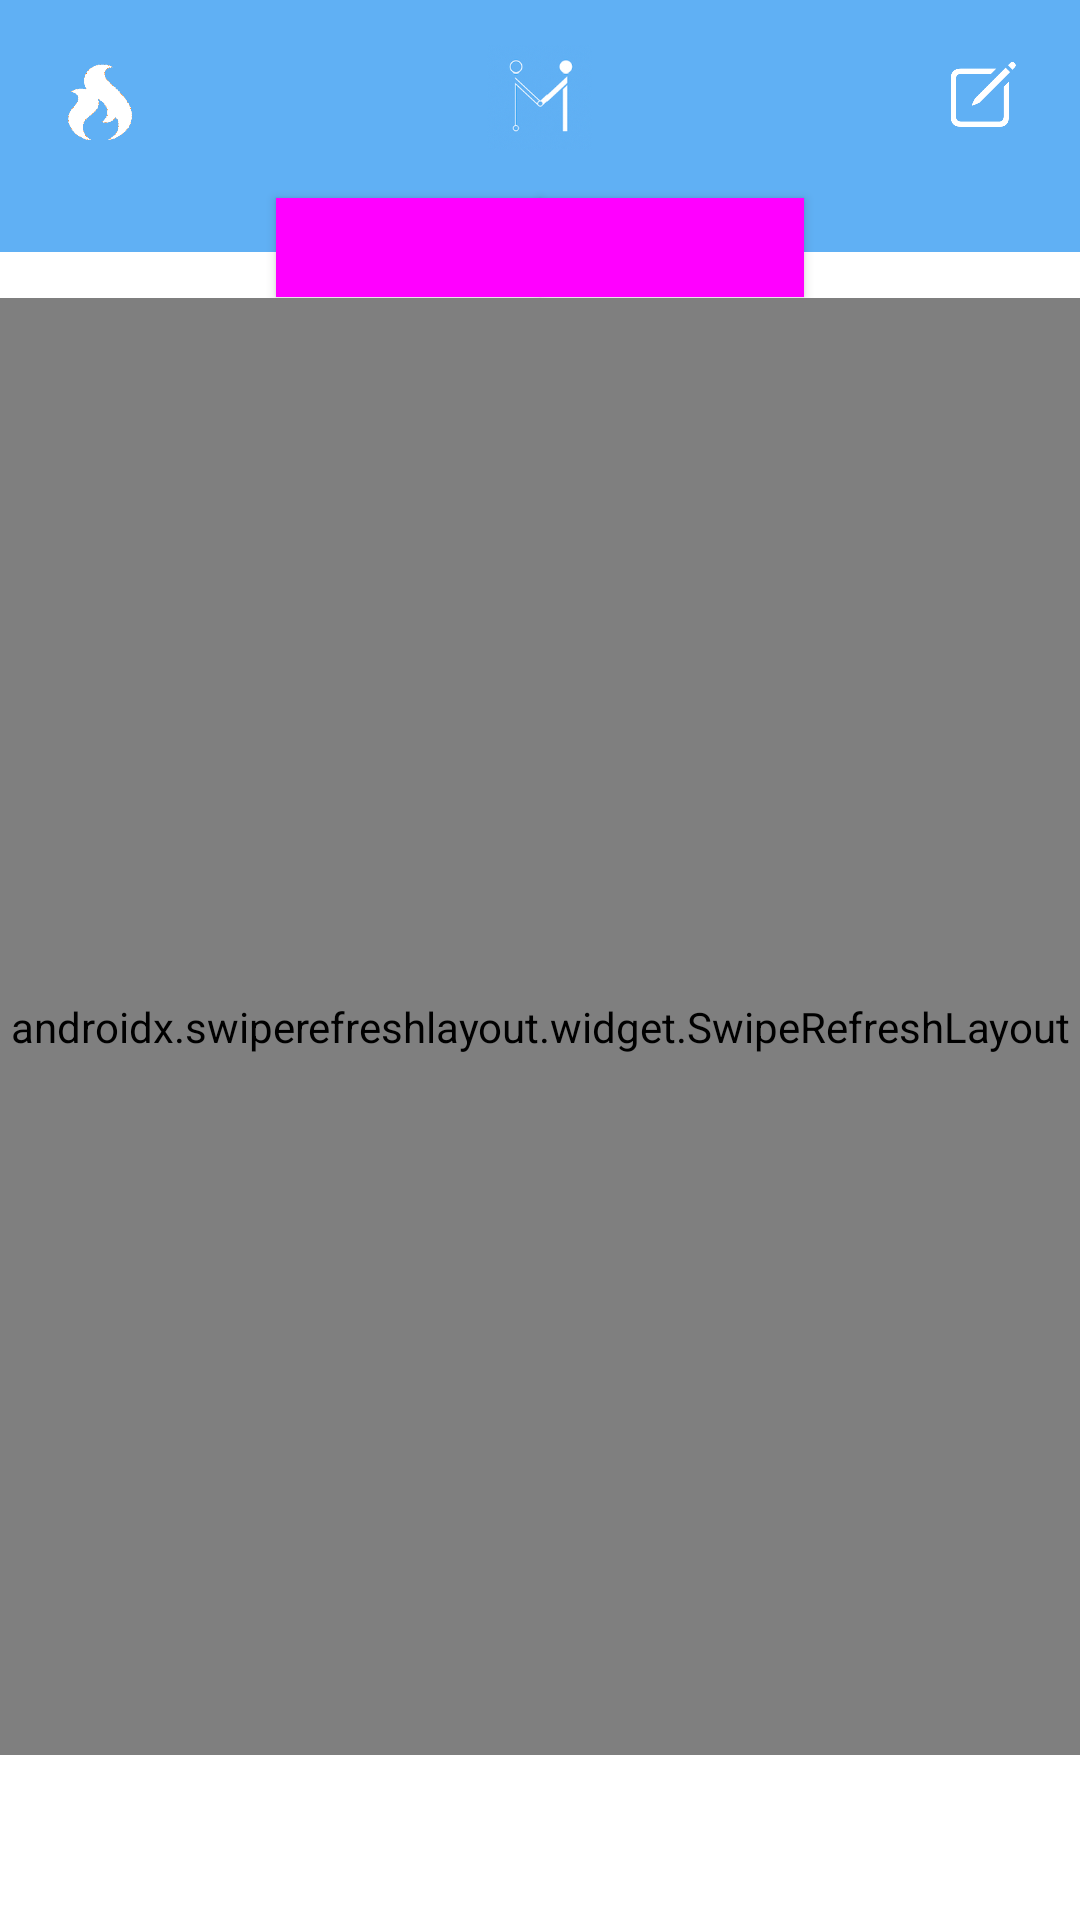

Screen size 1080px x 1920px. Icon name, then its box in pixels as rect(x1, y1, x2, y2):
flamewhite: rect(68, 64, 132, 140)
square and pencil: rect(951, 62, 1016, 127)
